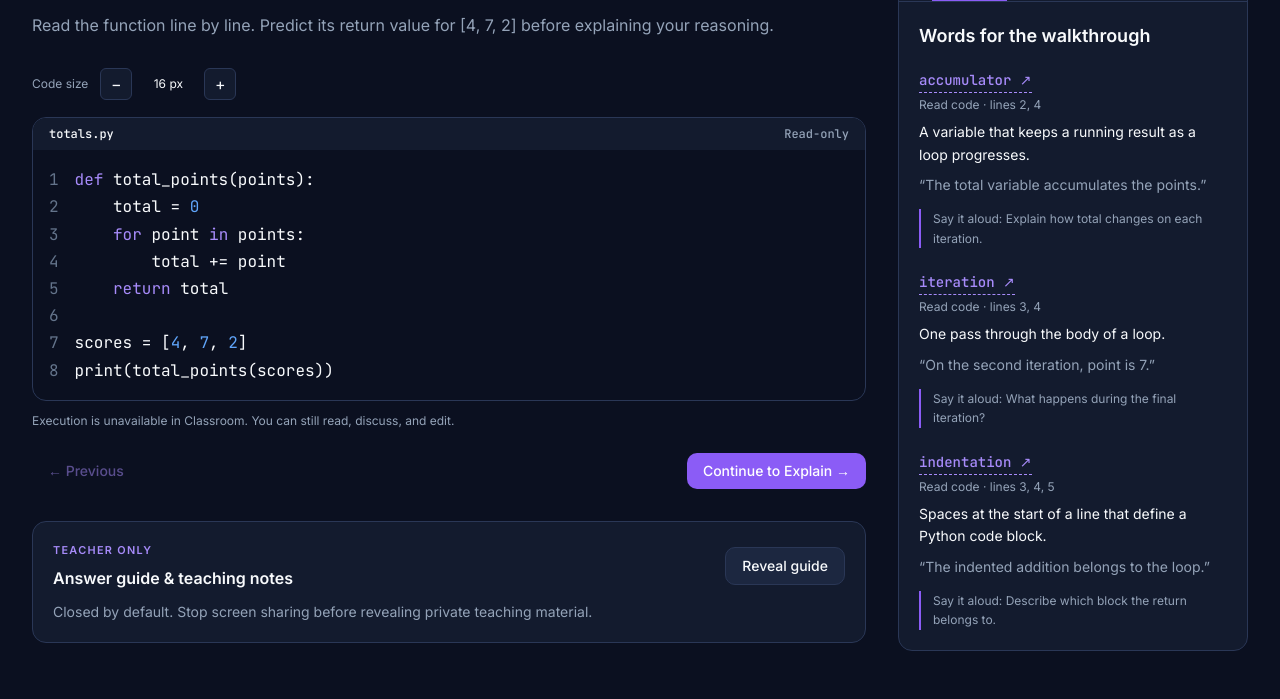
Test case: Classroom teaching workflow › shows guide failures and keeps private drafts unshareable
(page scrolled)
Click the button "Reveal guide" at point(785, 566), box [725,547,845,585]
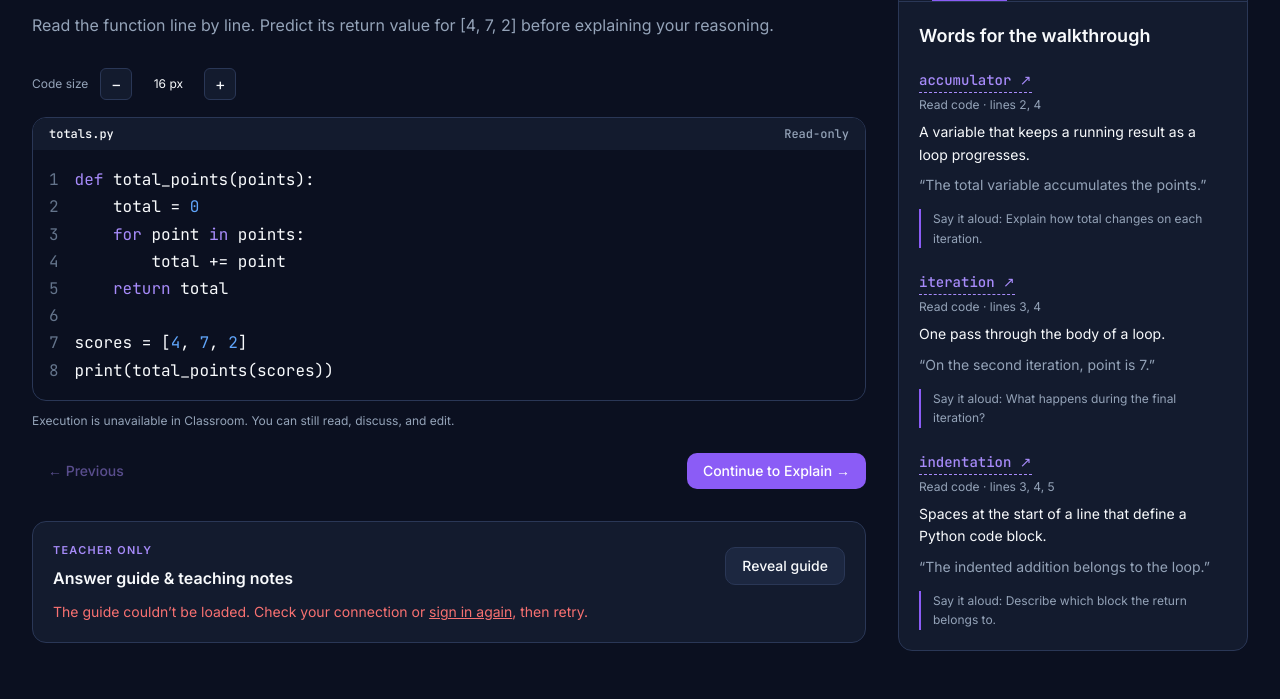
Check: the message shows "couldn’t be loaded", box [53,603,425,620]
